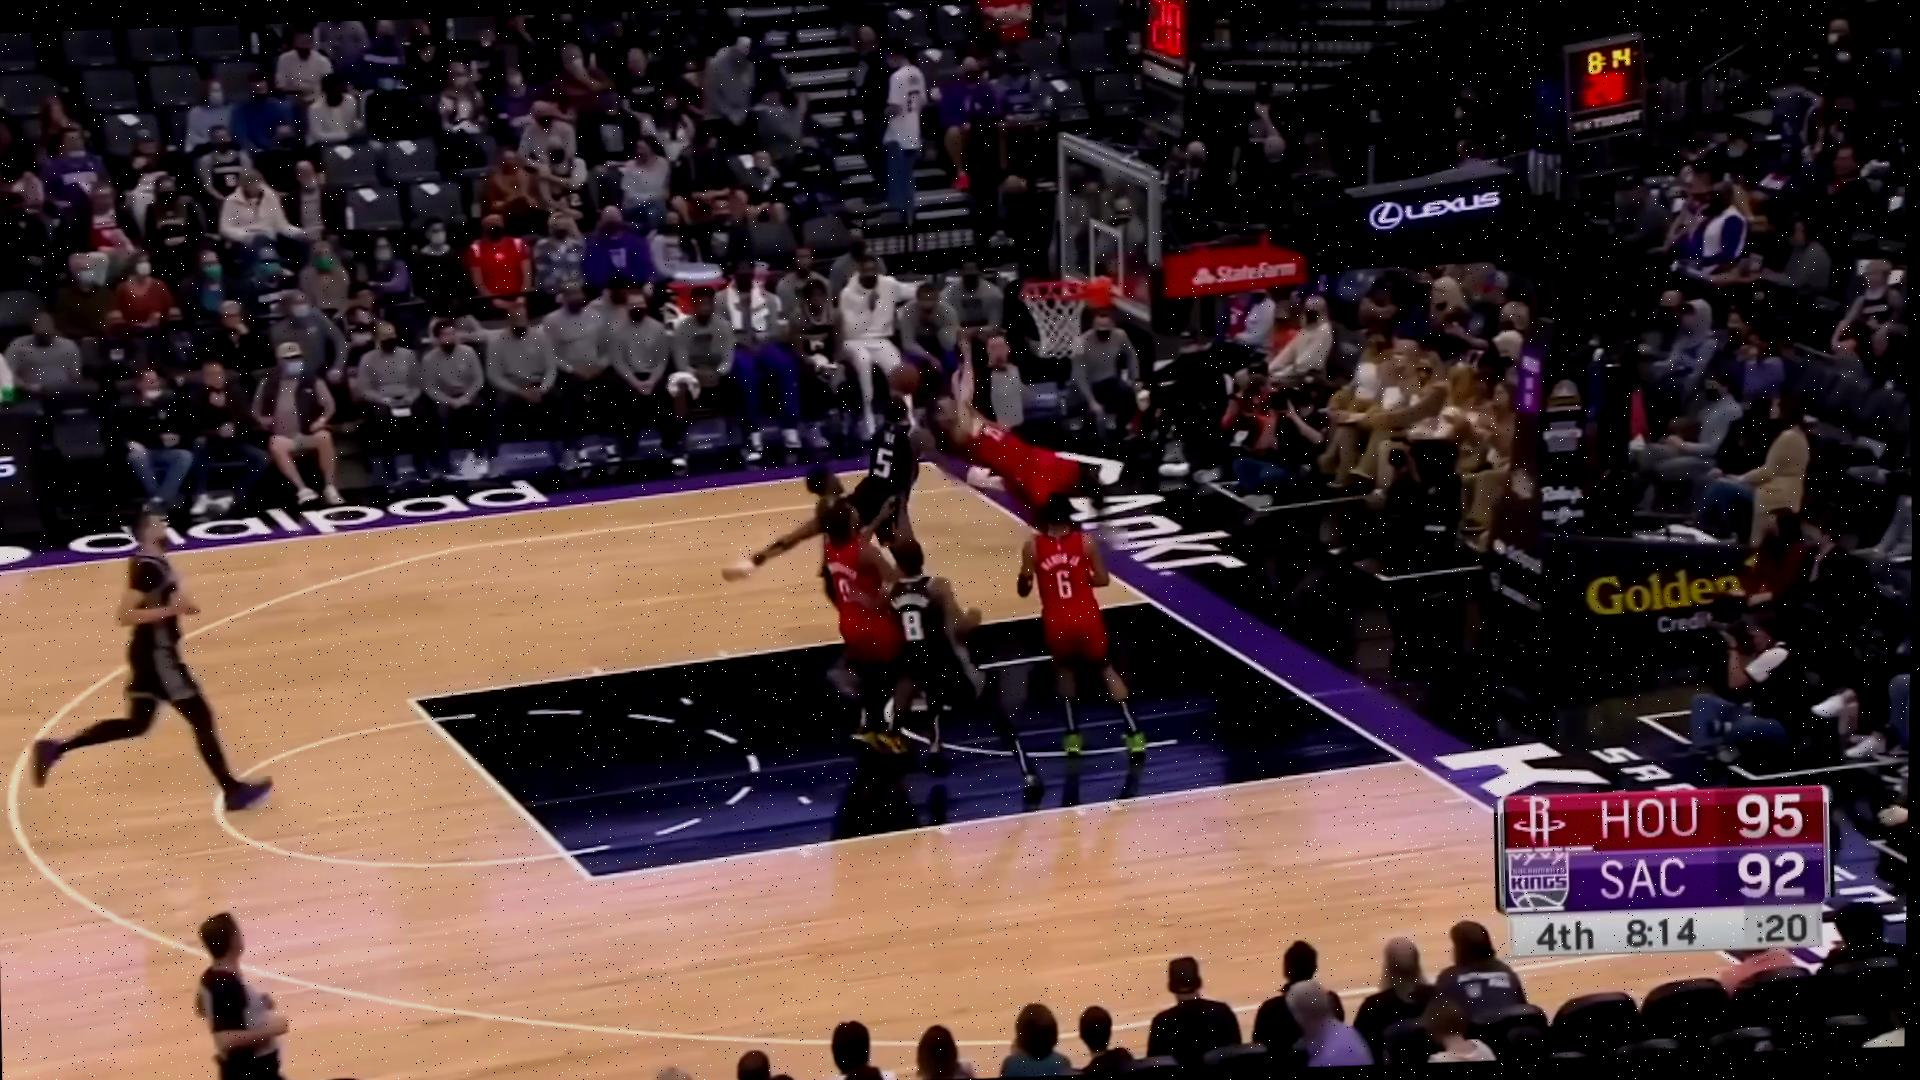foul: (798, 332, 1138, 579)
